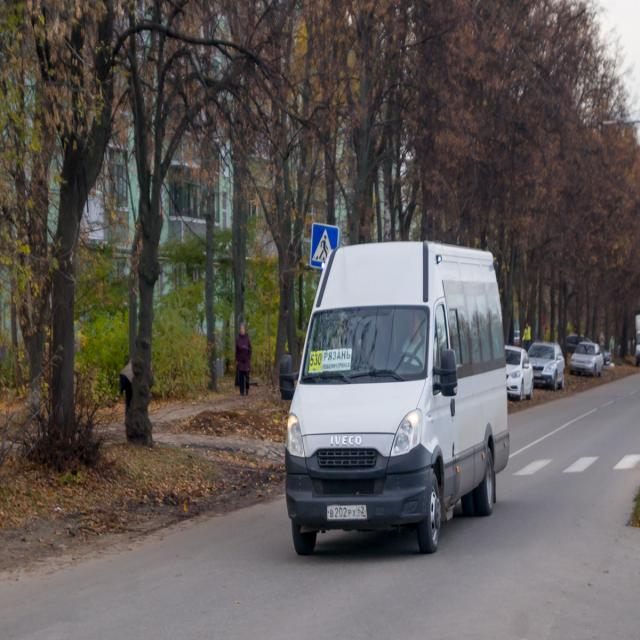number-of-bus: (310, 352, 324, 368)
